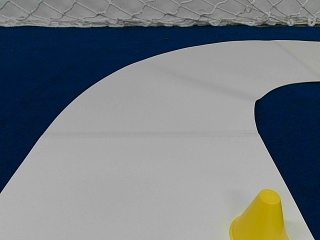cone: (229, 190, 285, 238)
